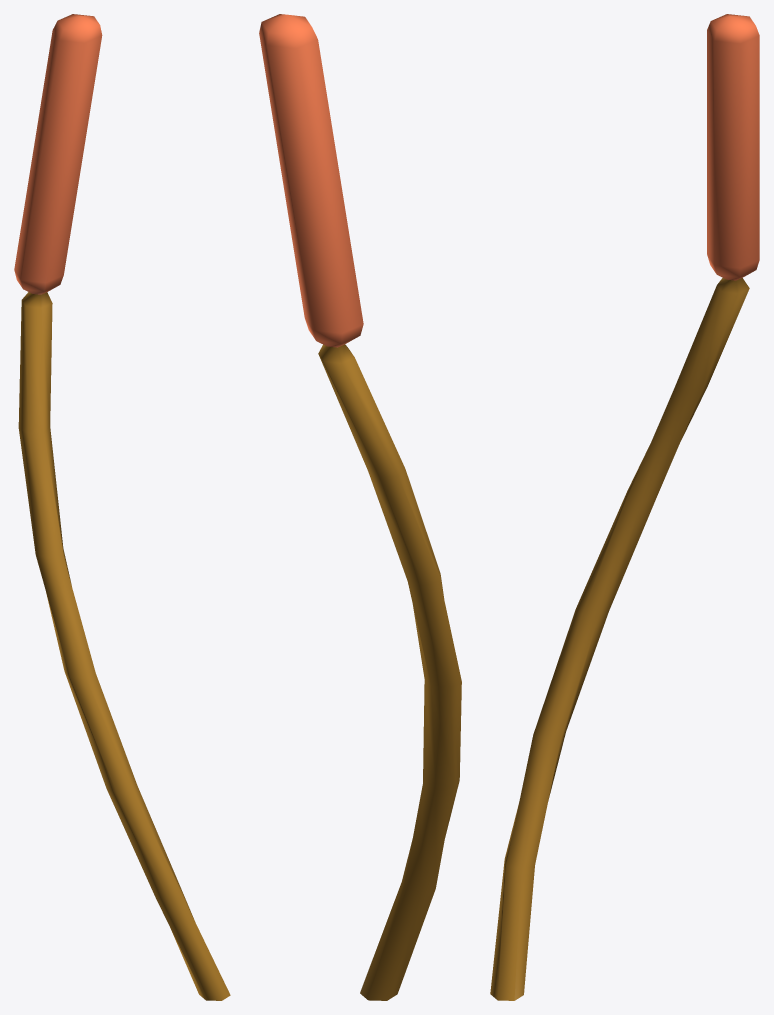
File: RabodeGato.fbx
3 renders of one model, left to right at view 1: azimuth 30°, elevation 25°; view 2: azimuth 150°, elevation 25°; view 3: azimuth 270°, elevation 25°, orthographic. The views are drawn at different scales.
Parts seen in each view (by area): view 1: RabodeGato; view 2: RabodeGato; view 3: RabodeGato.
Boxes of the visible parts, <box> form: RabodeGato: <box>14,14,230,1000</box>; RabodeGato: <box>259,14,461,1000</box>; RabodeGato: <box>490,14,759,1000</box>.
Size of the model in its own units: 8.19 by 55.55 by 14.08.
